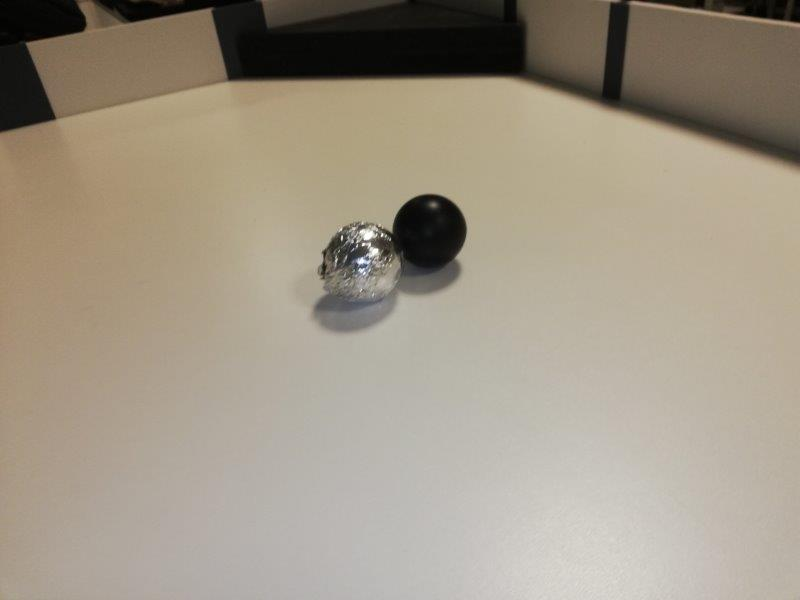bianca: (320, 222, 401, 303)
nera: (393, 193, 467, 270)
